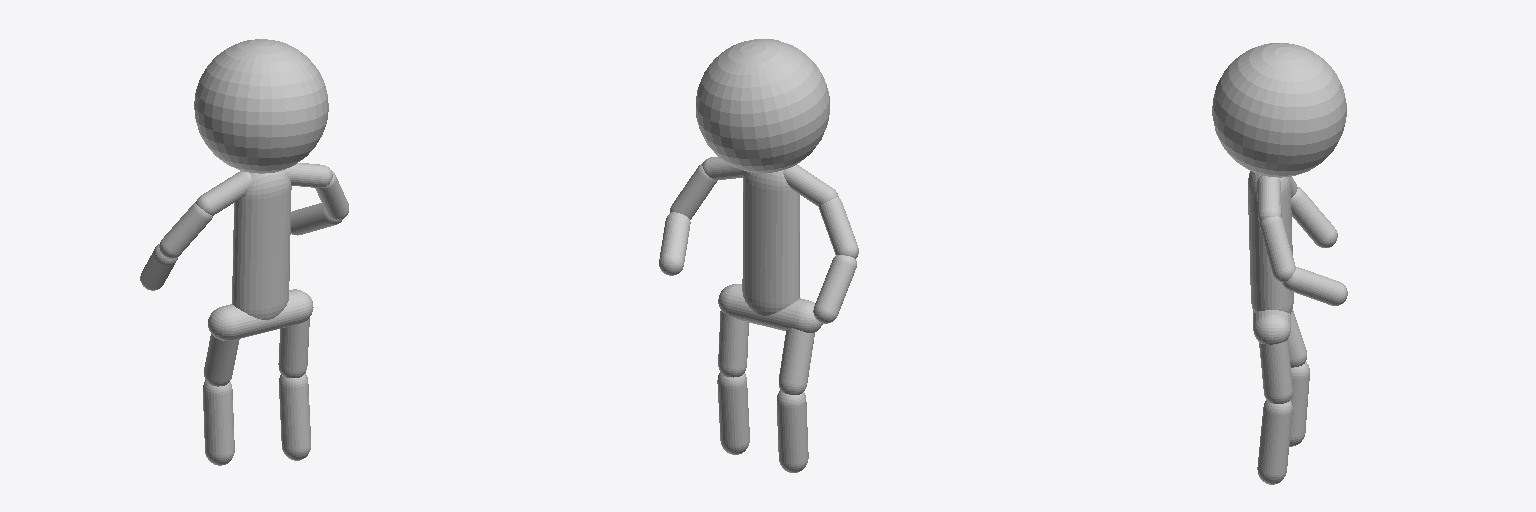
Rendered from Stickman_000030.obj.
3 renders of one model, left to right at view 1: azimuth 30°, elevation 25°; view 2: azimuth 150°, elevation 25°; view 3: azimuth 270°, elevation 25°, orthographic.
Visible parts, largest first — view 1: Head_Sphere.001, Body_Roundcube.002, Hip_Roundcube.005, LowerLegLeft_Roundcube.013, LowerLegRight_Roundcube.011, UpperLegLeft_Roundcube.012, UpperArmRight_Roundcube.015, UpperLegRight_Roundcube.010, ShoulderRight_Roundcube.014, LowerArmLeft_Roundcube.019, ShoulderLeft_Roundcube.017, LowerArmRight_Roundcube.016 (+1 smaller); view 2: Head_Sphere.001, Body_Roundcube.002, LowerLegRight_Roundcube.011, LowerLegLeft_Roundcube.013, Hip_Roundcube.005, UpperLegRight_Roundcube.010, LowerArmRight_Roundcube.016, UpperLegLeft_Roundcube.012, LowerArmLeft_Roundcube.019, UpperArmRight_Roundcube.015, UpperArmLeft_Roundcube.018, ShoulderRight_Roundcube.014 (+1 smaller); view 3: Head_Sphere.001, Body_Roundcube.002, LowerLegLeft_Roundcube.013, UpperLegLeft_Roundcube.012, UpperArmLeft_Roundcube.018, LowerArmRight_Roundcube.016, LowerArmLeft_Roundcube.019, LowerLegRight_Roundcube.011, Hip_Roundcube.005, ShoulderLeft_Roundcube.017, UpperLegRight_Roundcube.010.
Boxes of the visible parts, <box> form: Head_Sphere.001: <box>194,39,328,173</box>; Body_Roundcube.002: <box>232,170,291,319</box>; Hip_Roundcube.005: <box>208,289,313,340</box>; LowerLegLeft_Roundcube.013: <box>279,373,310,460</box>; LowerLegRight_Roundcube.011: <box>203,380,234,465</box>; UpperLegLeft_Roundcube.012: <box>278,318,309,377</box>; UpperArmRight_Roundcube.015: <box>159,202,212,258</box>; UpperLegRight_Roundcube.010: <box>204,334,239,386</box>; ShoulderRight_Roundcube.014: <box>196,171,251,215</box>; LowerArmLeft_Roundcube.019: <box>291,203,343,235</box>; ShoulderLeft_Roundcube.017: <box>285,163,332,187</box>; LowerArmRight_Roundcube.016: <box>140,244,177,290</box>; Head_Sphere.001: <box>696,39,829,172</box>; Body_Roundcube.002: <box>742,170,799,315</box>; LowerLegRight_Roundcube.011: <box>777,390,808,472</box>; LowerLegLeft_Roundcube.013: <box>717,372,749,454</box>; Hip_Roundcube.005: <box>718,284,822,332</box>; UpperLegRight_Roundcube.010: <box>779,328,814,394</box>; LowerArmRight_Roundcube.016: <box>813,255,856,323</box>; UpperLegLeft_Roundcube.012: <box>718,311,748,377</box>; LowerArmLeft_Roundcube.019: <box>659,212,690,275</box>; UpperArmRight_Roundcube.015: <box>819,197,858,258</box>; UpperArmLeft_Roundcube.018: <box>670,163,717,219</box>; ShoulderRight_Roundcube.014: <box>783,165,838,206</box>; Head_Sphere.001: <box>1212,43,1346,177</box>; Body_Roundcube.002: <box>1248,171,1293,313</box>; LowerLegLeft_Roundcube.013: <box>1257,400,1292,484</box>; UpperLegLeft_Roundcube.012: <box>1259,340,1292,403</box>; UpperArmLeft_Roundcube.018: <box>1260,216,1295,282</box>; LowerArmRight_Roundcube.016: <box>1291,187,1337,247</box>; LowerArmLeft_Roundcube.019: <box>1282,267,1347,305</box>; LowerLegRight_Roundcube.011: <box>1289,362,1309,446</box>; Hip_Roundcube.005: <box>1253,310,1290,344</box>; ShoulderLeft_Roundcube.017: <box>1257,175,1281,221</box>; UpperLegRight_Roundcube.010: <box>1288,309,1306,367</box>.
Size of the model in its own units: 5.19 by 11.04 by 3.23.